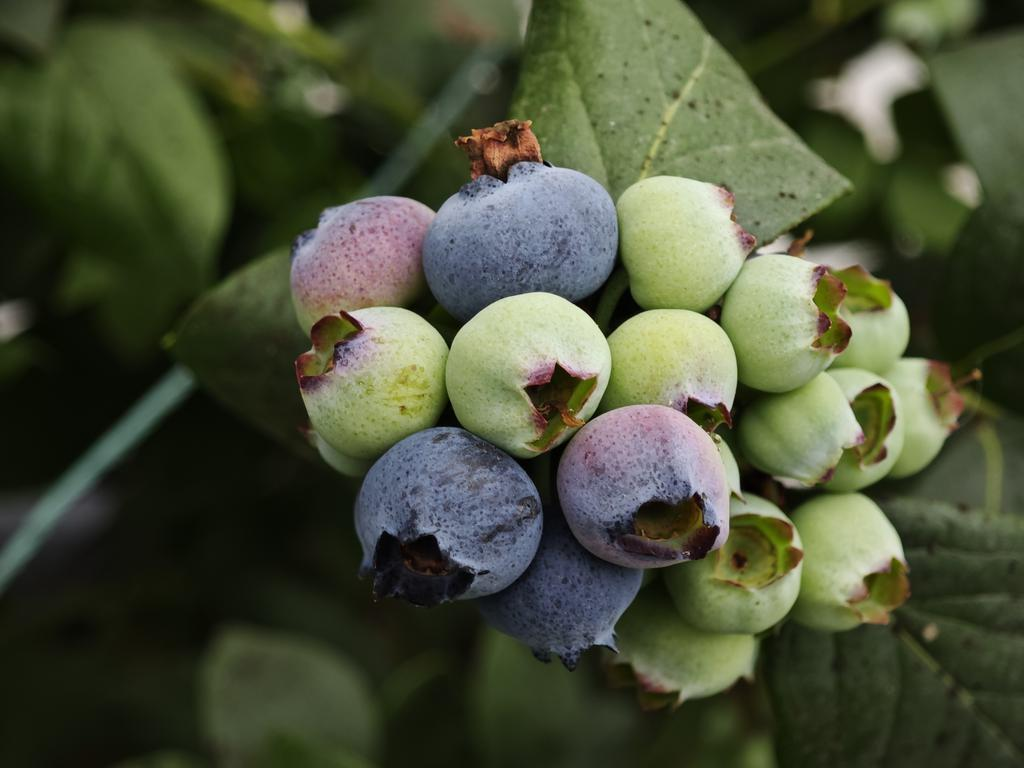RipeBlueBerry: (349, 419, 545, 611), (419, 153, 623, 313)
Semi-RipeBlueBerry: (552, 399, 733, 571)
UnripeBlueBerry: (444, 285, 614, 462)
